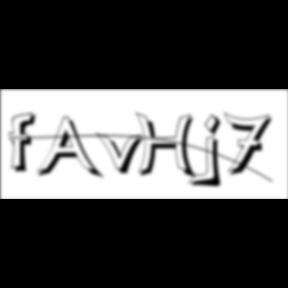7: (224, 111, 278, 179)
A: (36, 116, 106, 182)
H: (135, 112, 201, 182)
f: (8, 111, 42, 175)
j: (202, 113, 228, 191)
v: (97, 131, 151, 177)
